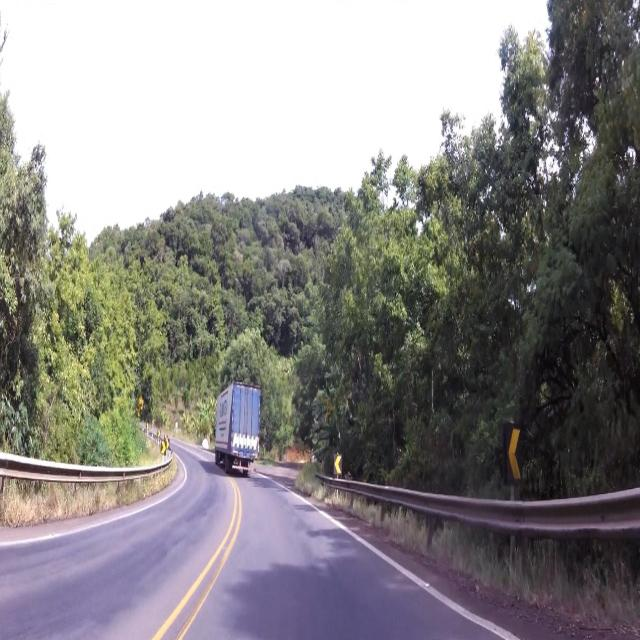Del: (506, 420, 526, 488), (332, 452, 347, 477)
